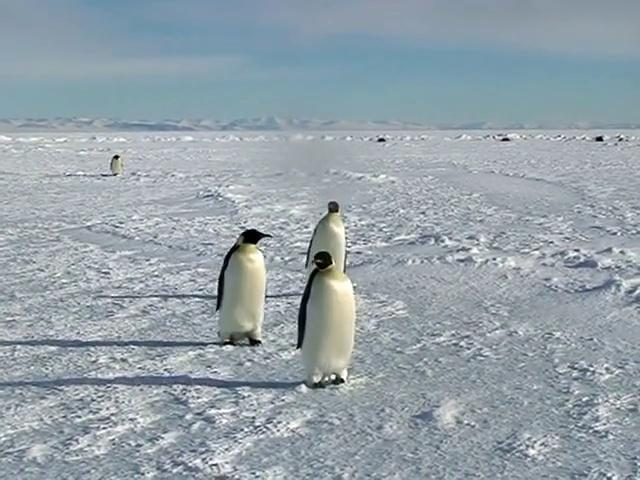animal: (306, 202, 346, 274)
